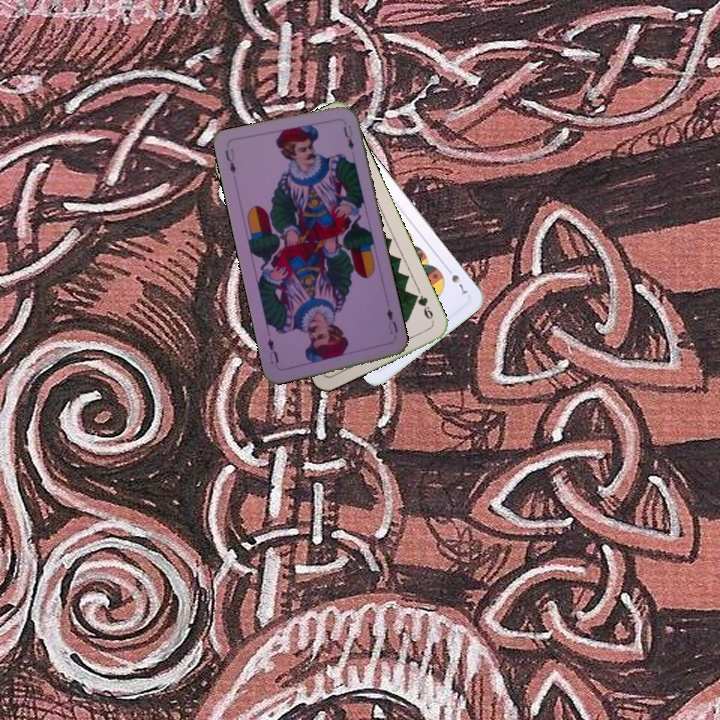EU: (382, 305, 400, 336), (221, 144, 238, 176)
G9: (410, 290, 436, 325)
S7: (442, 263, 470, 298)
